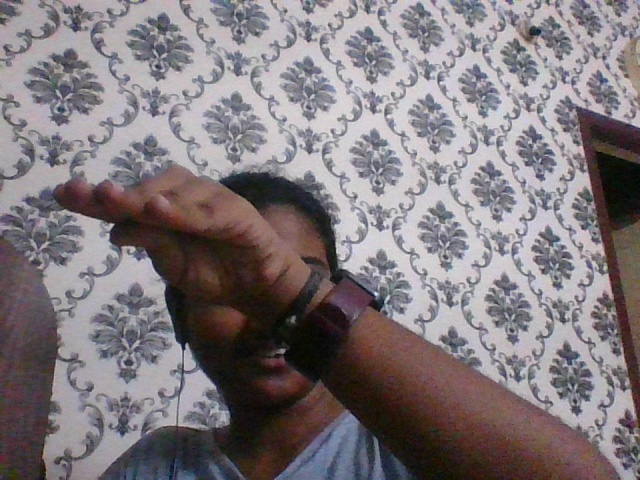no: (44, 154, 296, 286)
